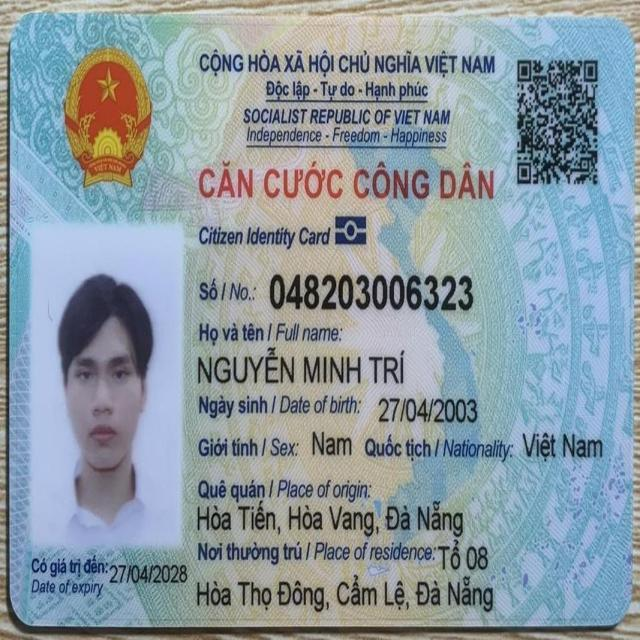current_place: (194, 574, 496, 616), (437, 538, 490, 573)
dob: (376, 395, 480, 427)
expire_date: (108, 561, 189, 586)
gender: (311, 427, 354, 461)
id: (268, 270, 476, 317)
name: (195, 345, 407, 389)
nationality: (522, 429, 604, 464)
origin_place: (195, 499, 466, 540)
qr: (512, 50, 604, 192)
